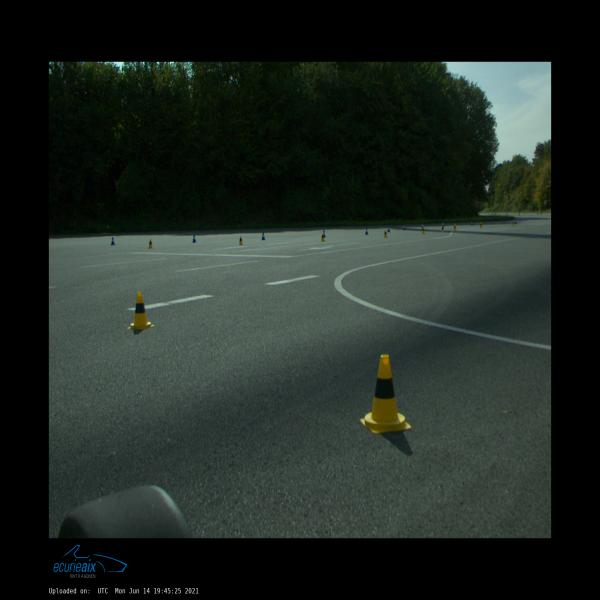blue_cone: (110, 237, 116, 245), (192, 234, 196, 243), (261, 233, 266, 240), (365, 228, 368, 235), (323, 230, 326, 237), (403, 224, 406, 230), (387, 226, 390, 232), (421, 223, 423, 228), (471, 221, 473, 225), (514, 220, 516, 224), (443, 222, 444, 226)
yellow_cone: (360, 356, 411, 433), (128, 292, 154, 330), (320, 233, 326, 242), (238, 236, 244, 245), (148, 239, 154, 248), (383, 230, 388, 238), (479, 222, 483, 228), (453, 224, 457, 230), (441, 225, 444, 232), (422, 227, 425, 234), (511, 220, 515, 225)
